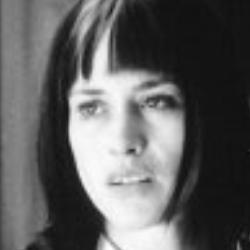face: (33, 3, 244, 239)
